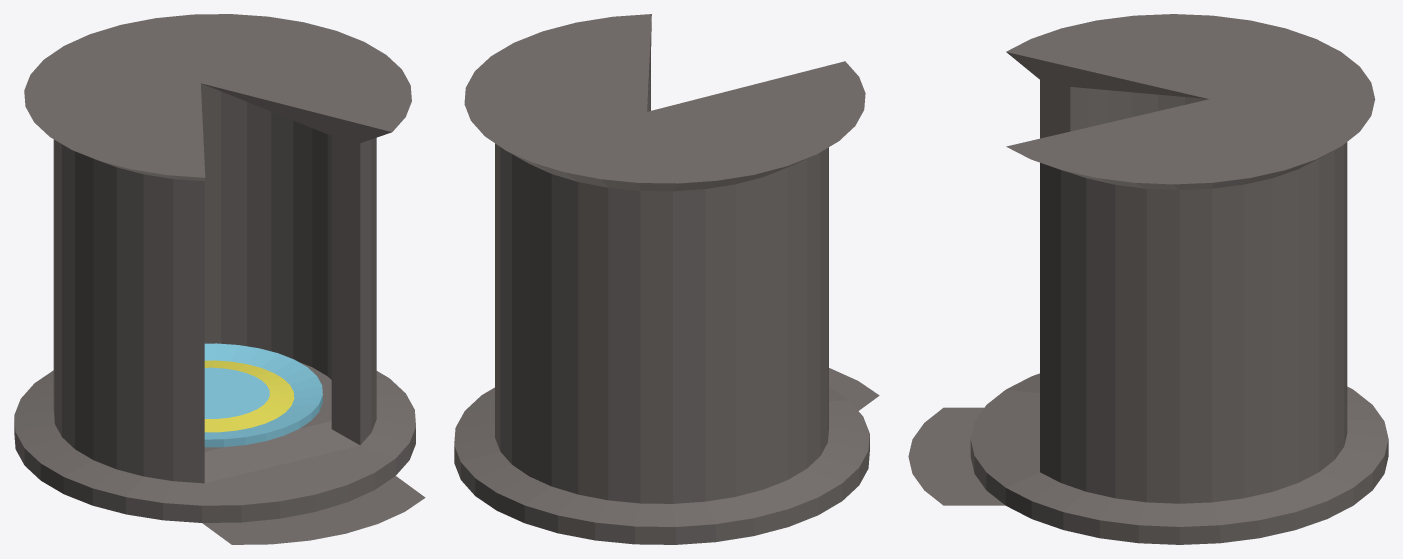
File: elevator.fbx
3 renders of one model, left to right at view 1: azimuth 30°, elevation 25°; view 2: azimuth 150°, elevation 25°; view 3: azimuth 270°, elevation 25°, orthographic. The views are drawn at different scales.
Visible parts, largest first — view 1: Cylinder, Cylinder.001; view 2: Cylinder; view 3: Cylinder.
Boxes of the visible parts, x1=… form: Cylinder: x1=14, y1=14, x2=425, y2=544; Cylinder.001: x1=204, y1=343, x2=322, y2=447; Cylinder: x1=454, y1=14, x2=879, y2=544; Cylinder: x1=908, y1=14, x2=1388, y2=544.
Size of the model in its own units: 591 by 558 by 679.
